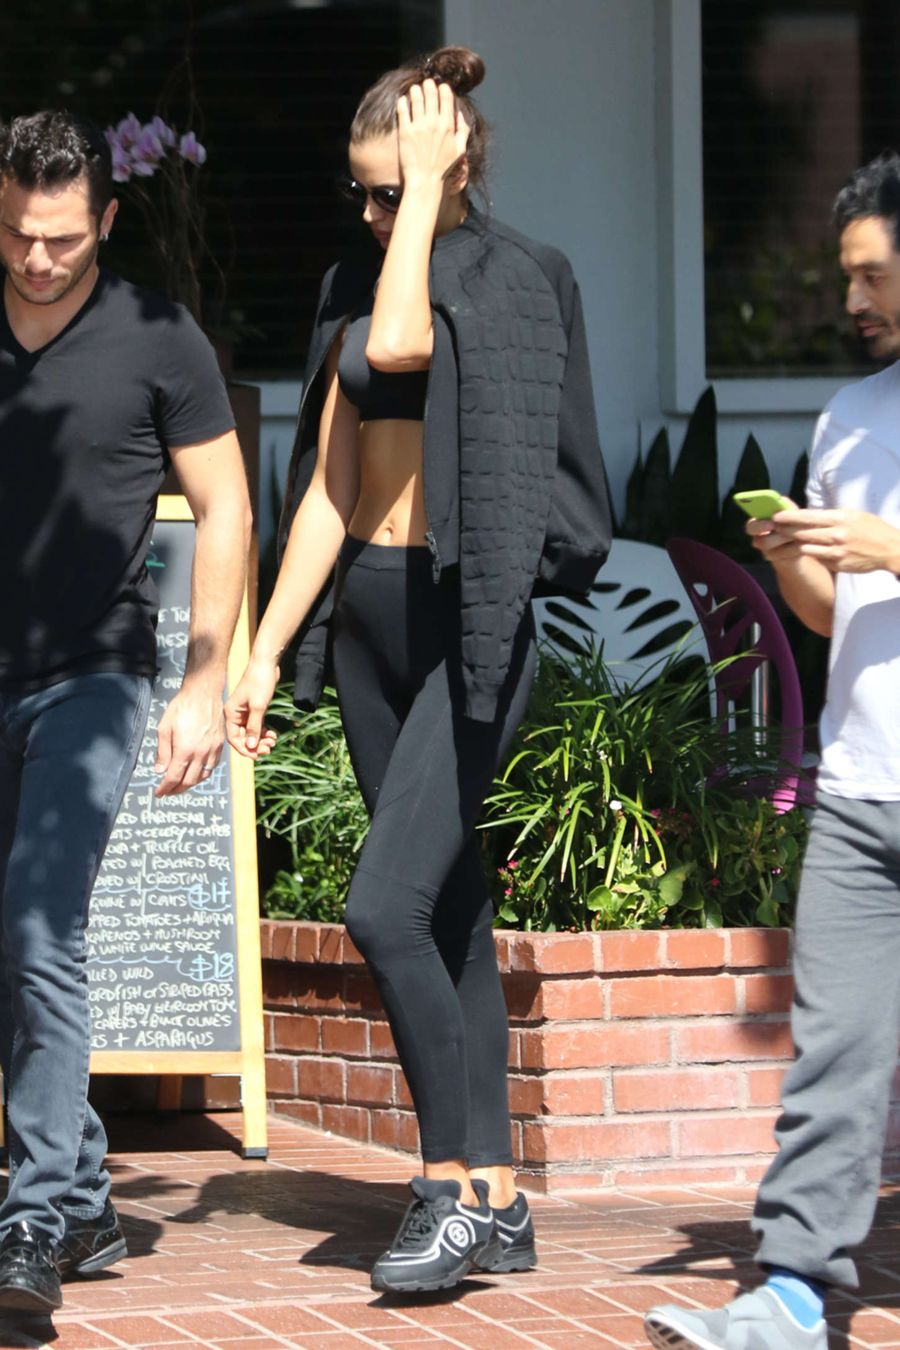Person: (221, 41, 616, 1297), (1, 104, 253, 1333)
